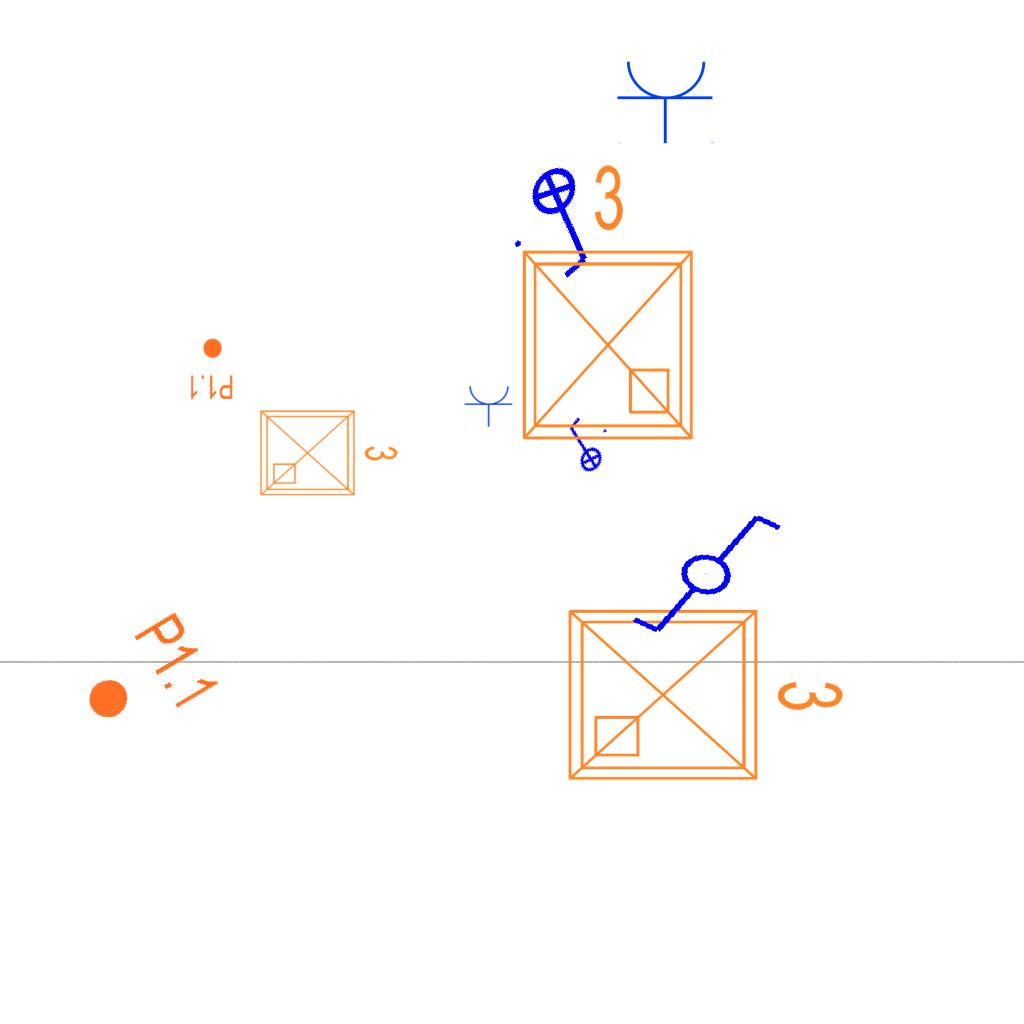Ausschalter_beleuchtet: (494, 146, 638, 294), (549, 410, 617, 482)
Downlight_LED_Einbauleuchten_Flur: (66, 607, 225, 753), (188, 337, 234, 401)
Einbaudownlights_LED_Konferenzraeume: (554, 587, 854, 795), (500, 154, 708, 454), (253, 399, 403, 503)
Schukosteckdose_einfach: (616, 57, 716, 144), (464, 384, 514, 427)
Wechselschalter: (609, 487, 788, 655)
